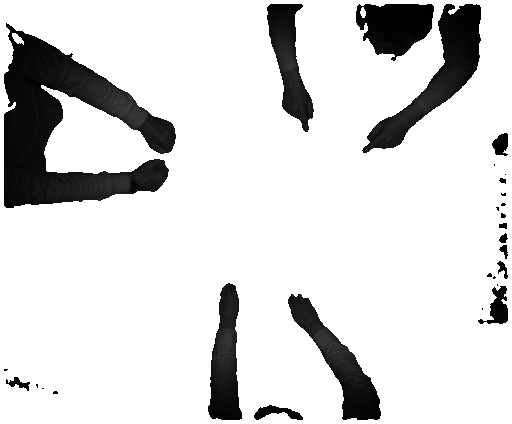fist: (135, 159, 175, 199), (141, 113, 175, 157)
hand: (360, 115, 413, 159), (280, 84, 319, 135), (288, 288, 321, 333), (216, 280, 239, 322)
